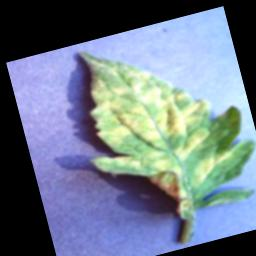Leaf_Mold: (63, 14, 256, 239)
